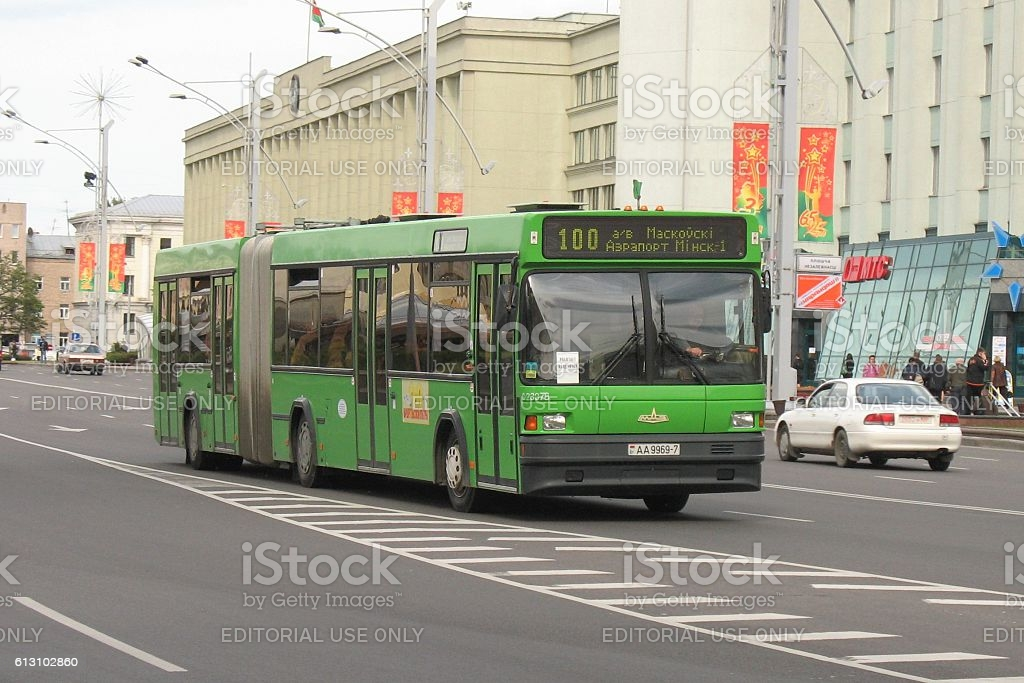bus: (148, 212, 766, 508)
passenger: (772, 362, 957, 471)
